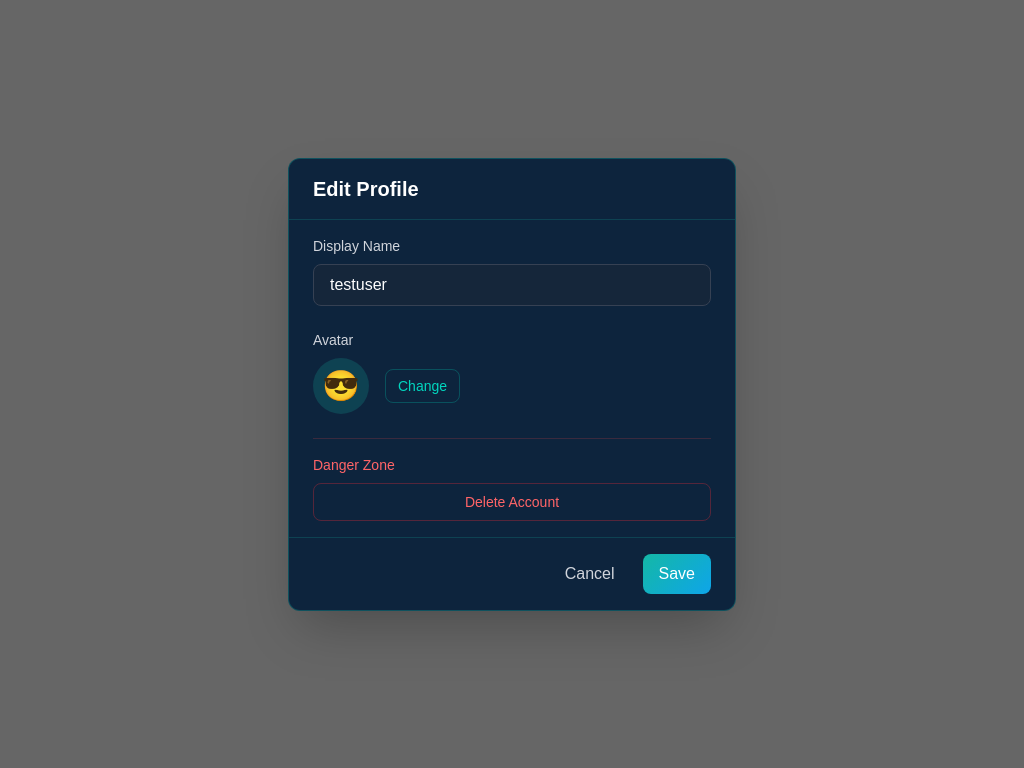
Test: ProfileSettings › shows error message on failure › should display error message when API returns error
# Change display name to trigger API call
Replace the text in the field labelled "Display Name" with "newdisplayname" at (512, 284), box 313,264 -> 711,306
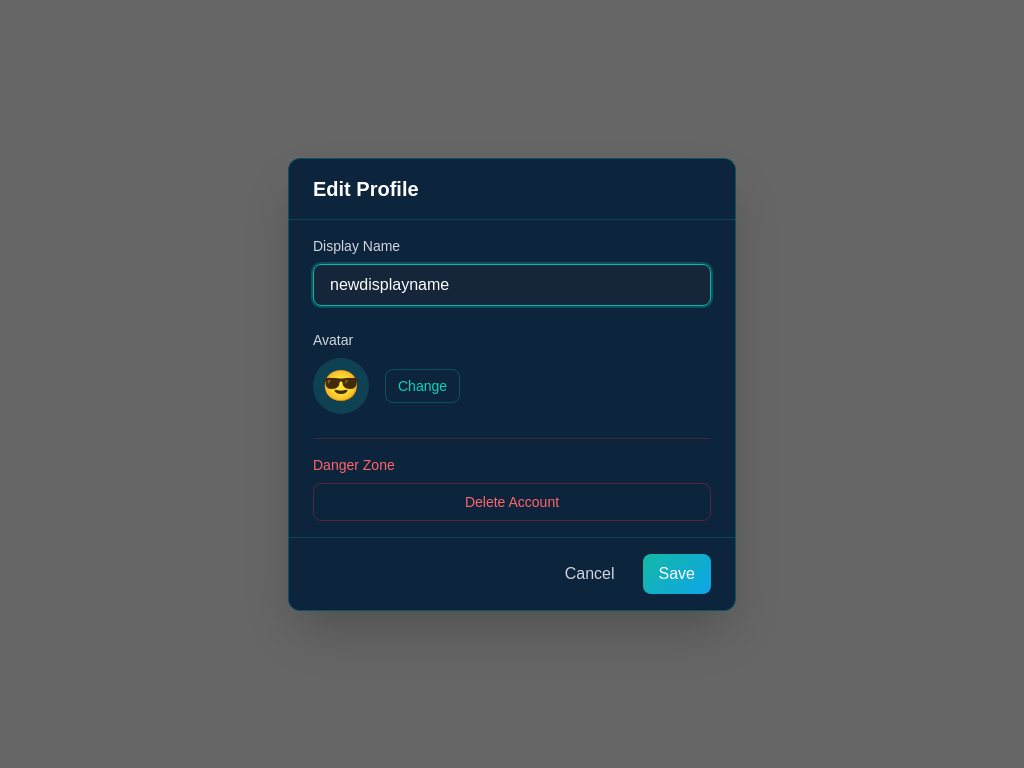
Click the button "Save" at (677, 574), box 642,554 -> 711,594
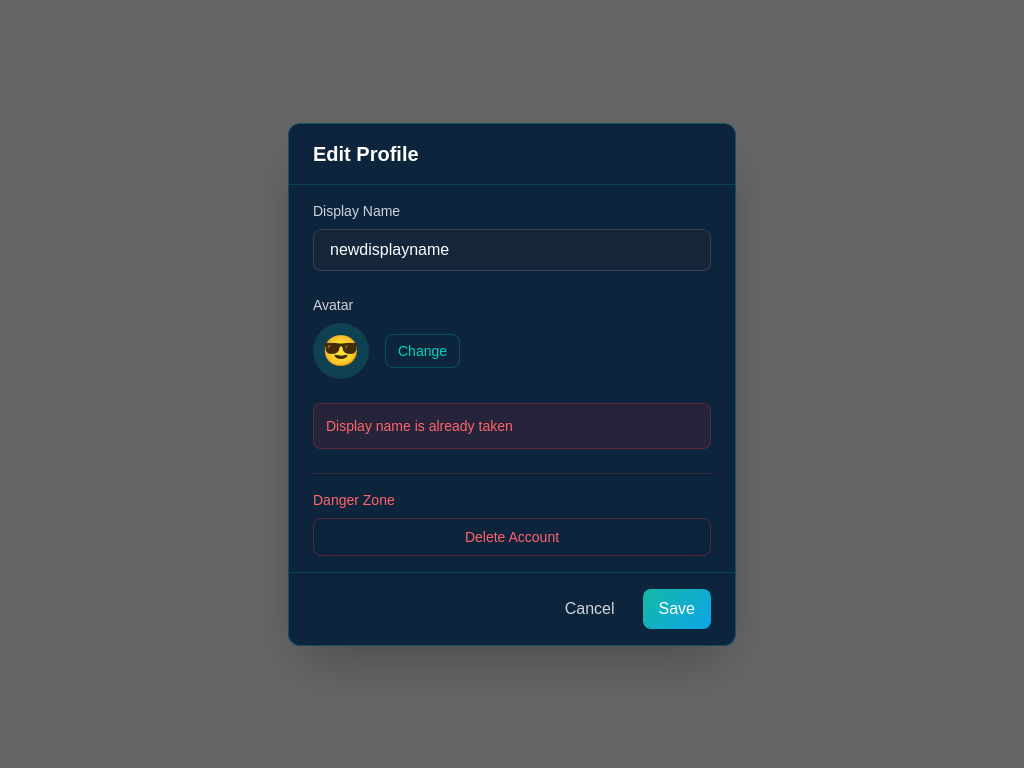
Check: the text "Display name is already taken" is shown, box 313,402 -> 711,448
